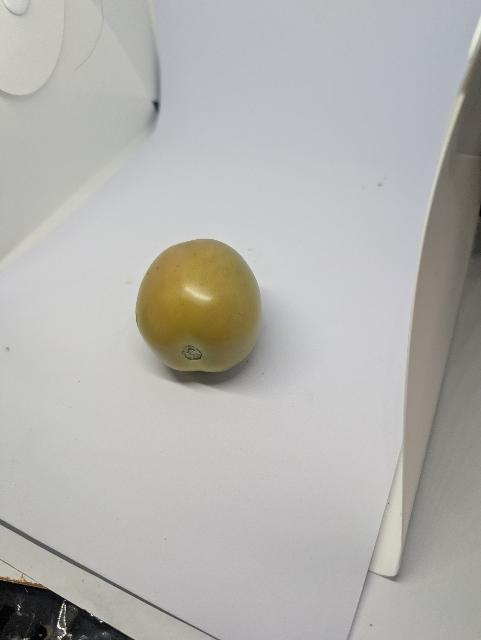breaker: (131, 237, 266, 376)
